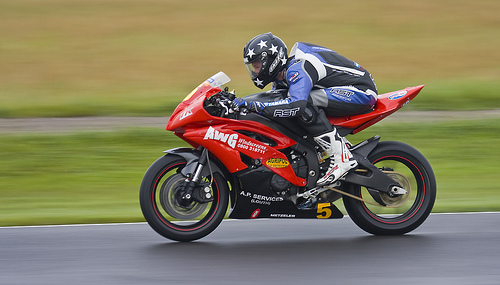helmet: (242, 38, 287, 87)
